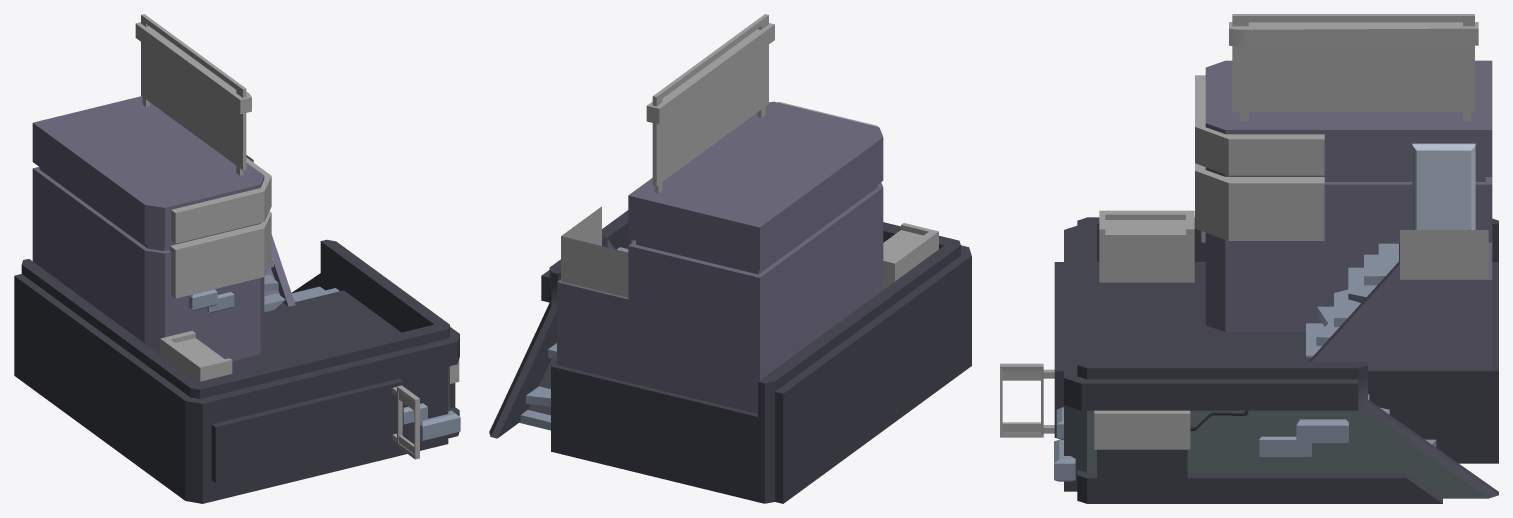
Rendered from 1_Main.fbx.
The picture shows the model from 3 angles, left to right: view 1: azimuth 30°, elevation 25°; view 2: azimuth 150°, elevation 25°; view 3: azimuth 270°, elevation 25°; orthographic projection. The views are drawn at different scales.
Parts seen in each view (by area): view 1: pasted__pCube1, pasted__pCube2, pasted__pasted__pCube33, pCube37, pCube61, pasted__pasted__pCube35, pasted__pasted__pCube31, pasted__pasted__pCube25; view 2: pasted__pCube2, pasted__pCube1, pasted__pasted__pCube33, pPlane1, pasted__pasted__pCube35; view 3: pasted__pCube1, pasted__pCube2, pasted__pasted__pCube33, pCube37, pasted__pasted__pCube35, pCube61, pasted__pasted__pCube38, pPlane1, pCube36, pasted__pasted__pCube31, pasted__pasted__pCube22, pasted__pasted__pCube39 (+5 smaller).
Part boxes in pixels (x1=…): pasted__pCube1: x1=14, y1=239, x2=459, y2=503; pasted__pCube2: x1=32, y1=96, x2=295, y2=360; pasted__pasted__pCube33: x1=135, y1=14, x2=251, y2=175; pCube37: x1=169, y1=211, x2=271, y2=298; pCube61: x1=171, y1=157, x2=271, y2=243; pasted__pasted__pCube35: x1=160, y1=331, x2=232, y2=381; pasted__pasted__pCube31: x1=392, y1=385, x2=419, y2=459; pasted__pasted__pCube25: x1=420, y1=410, x2=460, y2=440; pasted__pCube2: x1=557, y1=101, x2=883, y2=413; pasted__pCube1: x1=489, y1=210, x2=971, y2=503; pasted__pasted__pCube33: x1=646, y1=14, x2=774, y2=193; pPlane1: x1=561, y1=206, x2=628, y2=297; pasted__pasted__pCube35: x1=883, y1=223, x2=938, y2=289; pasted__pCube1: x1=1054, y1=217, x2=1498, y2=503; pasted__pCube2: x1=1205, y1=60, x2=1492, y2=369; pasted__pasted__pCube33: x1=1229, y1=14, x2=1478, y2=121; pCube37: x1=1195, y1=163, x2=1324, y2=240; pasted__pasted__pCube35: x1=1099, y1=210, x2=1194, y2=282; pCube61: x1=1195, y1=75, x2=1324, y2=175; pasted__pasted__pCube38: x1=1412, y1=143, x2=1475, y2=229; pPlane1: x1=1400, y1=230, x2=1488, y2=278; pCube36: x1=1094, y1=410, x2=1190, y2=449; pasted__pasted__pCube31: x1=1000, y1=363, x2=1054, y2=437; pasted__pasted__pCube22: x1=1296, y1=419, x2=1348, y2=442; pasted__pasted__pCube39: x1=1259, y1=436, x2=1311, y2=456.
Bounding box in the file's own units: 7.99 × 9.21 × 10.38.
